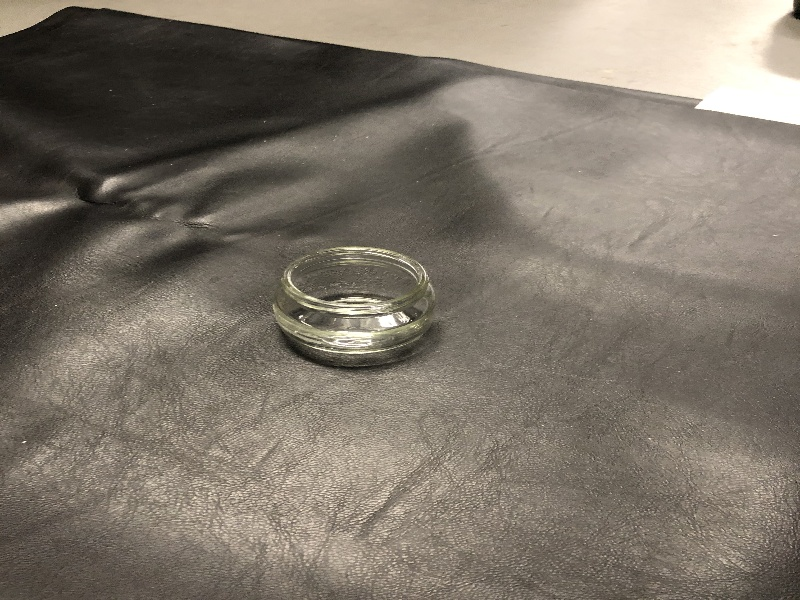glass: (272, 239, 442, 373)
